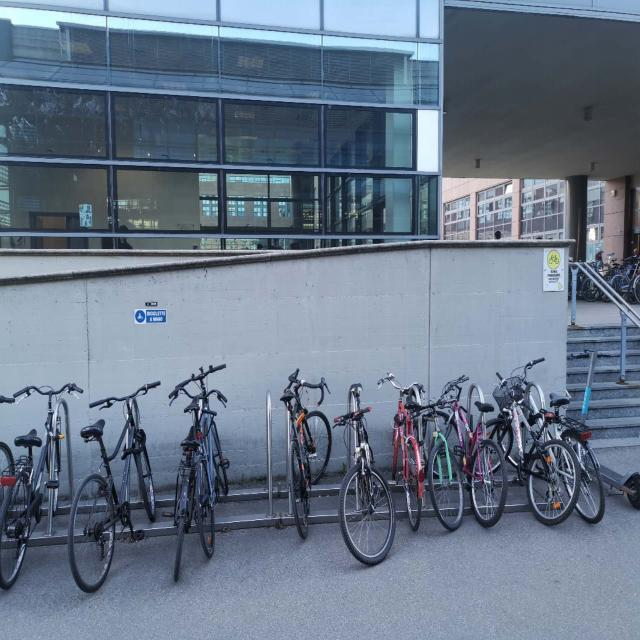Bicycle: (504, 334, 622, 541), (0, 364, 83, 602), (480, 387, 583, 563), (433, 365, 525, 554), (81, 387, 162, 585), (188, 358, 256, 588), (264, 343, 334, 558), (333, 350, 394, 562), (375, 363, 444, 547), (416, 346, 469, 555), (162, 362, 201, 594)
